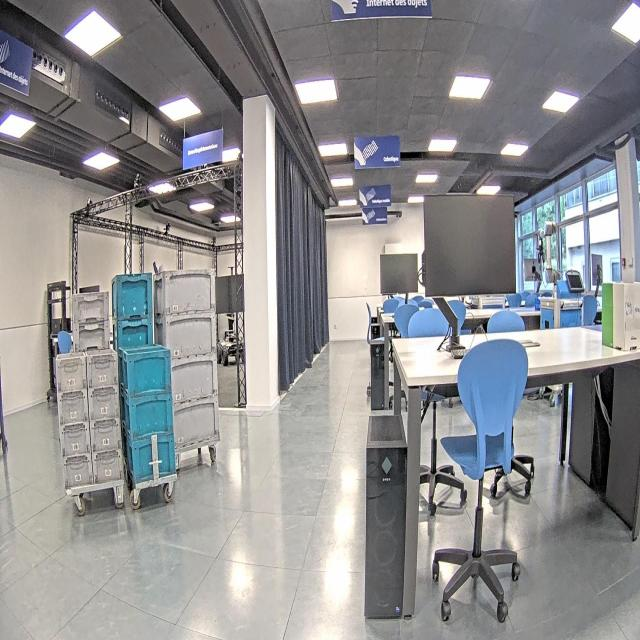Box3G: (72, 290, 111, 452)
Box4G: (152, 266, 222, 458)
Box8G: (55, 347, 124, 491)
BoxB4: (110, 270, 155, 462)
BoxB8: (118, 344, 177, 486)
